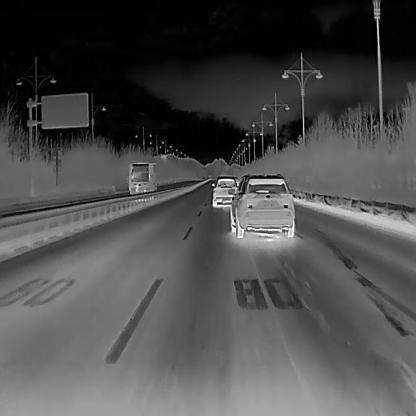car: (229, 173, 294, 238), (128, 161, 158, 195), (211, 176, 237, 206)
